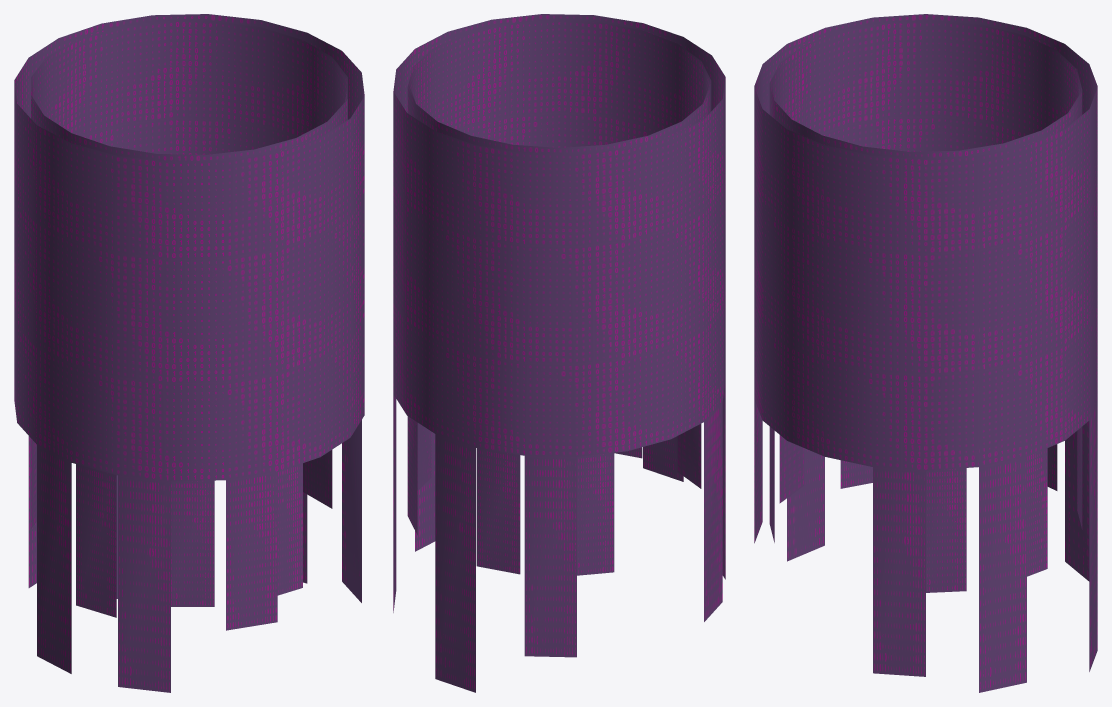
The model's file is Tree_Cupule_Cylinder_01_Art.fbx.
The picture shows the model from 3 angles, left to right: view 1: azimuth 30°, elevation 25°; view 2: azimuth 150°, elevation 25°; view 3: azimuth 270°, elevation 25°; orthographic projection. The views are drawn at different scales.
Parts seen in each view (by area): view 1: Tree_cupule_cylinder, Tree_leaves_2, Tree_leaves_1, Tree_leaves_3; view 2: Tree_cupule_cylinder, Tree_leaves_2, Tree_leaves_1, Tree_leaves_3; view 3: Tree_cupule_cylinder, Tree_leaves_2, Tree_leaves_1, Tree_leaves_3.
Boxes of the visible parts, bbox=[...] form: Tree_cupule_cylinder: bbox=[14, 14, 364, 692]; Tree_leaves_2: bbox=[31, 21, 347, 154]; Tree_leaves_1: bbox=[31, 21, 347, 617]; Tree_leaves_3: bbox=[31, 21, 347, 154]; Tree_cupule_cylinder: bbox=[393, 14, 725, 692]; Tree_leaves_2: bbox=[408, 20, 710, 148]; Tree_leaves_1: bbox=[407, 20, 711, 575]; Tree_leaves_3: bbox=[408, 21, 710, 147]; Tree_cupule_cylinder: bbox=[754, 14, 1097, 692]; Tree_leaves_2: bbox=[771, 21, 1080, 152]; Tree_leaves_1: bbox=[769, 20, 1082, 592]; Tree_leaves_3: bbox=[771, 35, 1078, 150].
Size of the model in its own units: 1937 by 3506 by 1937.
